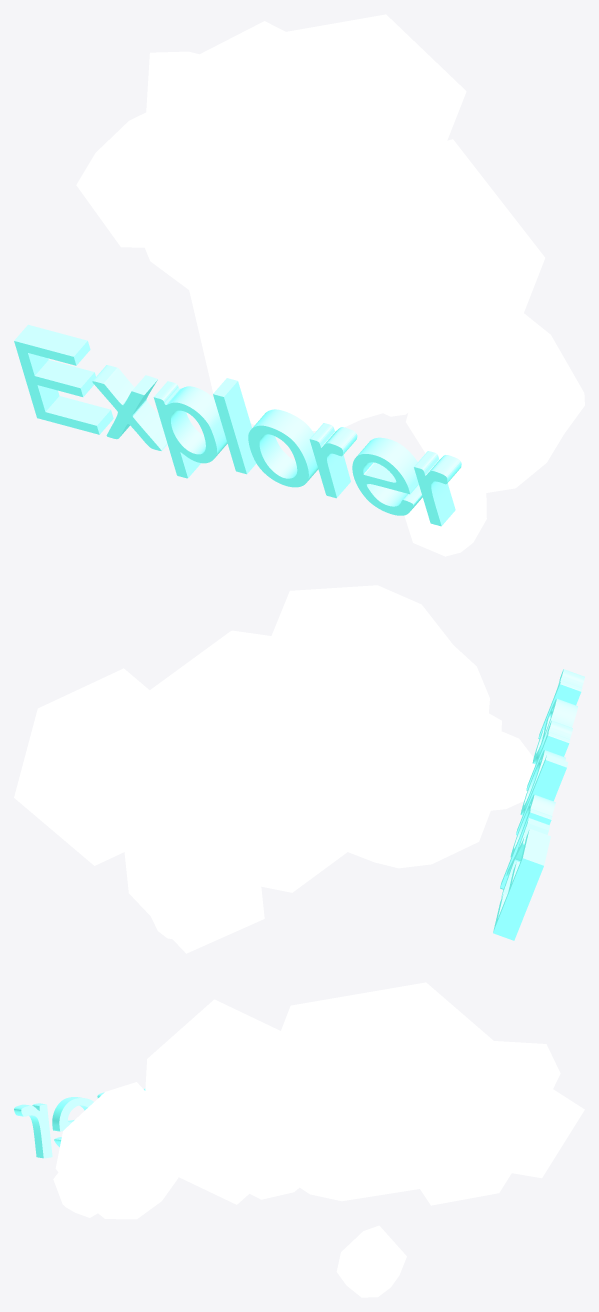
File: cloud0.glb
3 views of the same model, one above another, from view 1: azimuth 30°, elevation 25°; view 2: azimuth 150°, elevation 25°; view 3: azimuth 270°, elevation 25° (orthographic). The views are drawn at different scales.
Parts seen in each view (by area): view 1: Объект_Платоново_тело1_2, Объект_Платоново_тело_8, 3d-drawingglb, Объект_Платоново_тело1_1, Объект_Платоново_тело_2, Объект_Платоново_тело_7, Объект_Платоново_тело_5, Объект_Платоново_тело_1, Объект_Платоново_тело_6; view 2: Объект_Платоново_тело1_2, Объект_Платоново_тело1_1, Объект_Платоново_тело_7, Объект_Платоново_тело_8, Объект_Платоново_тело_5, 3d-drawingglb, Объект_Платоново_тело_6, Объект_Платоново_тело_3, Объект_Платоново_тело_1, Объект_Платоново_тело_2; view 3: Объект_Платоново_тело1_2, Объект_Платоново_тело_8, Объект_Платоново_тело_7, Объект_Платоново_тело_2, Объект_Платоново_тело_4, Объект_Платоново_тело_6, Объект_Платоново_тело_5, Объект_Платоново_тело1_1, 3d-drawingglb, Объект_Платоново_тело_1.
Part boxes in pixels (x1,y1,x2,y2): Объект_Платоново_тело1_2: (125,21,442,289); Объект_Платоново_тело_8: (263,139,544,420); 3d-drawingglb: (14,324,461,526); Объект_Платоново_тело1_1: (183,202,442,431); Объект_Платоново_тело_2: (406,283,584,492); Объект_Платоново_тело_7: (246,14,466,200); Объект_Платоново_тело_5: (76,112,254,247); Объект_Платоново_тело_1: (404,471,486,556); Объект_Платоново_тело_6: (146,51,245,165); Объект_Платоново_тело1_2: (116,630,415,892); Объект_Платоново_тело1_1: (273,665,501,868); Объект_Платоново_тело_7: (14,668,204,865); Объект_Платоново_тело_8: (239,585,477,807); Объект_Платоново_тело_5: (122,796,264,953); 3d-drawingglb: (493,669,584,940); Объект_Платоново_тело_6: (119,744,237,868); Объект_Платоново_тело_3: (155,819,245,899); Объект_Платоново_тело_1: (491,731,535,810); Объект_Платоново_тело_2: (454,646,489,712); Объект_Платоново_тело1_2: (243,982,514,1201); Объект_Платоново_тело_8: (141,999,309,1204); Объект_Платоново_тело_7: (384,1059,539,1205); Объект_Платоново_тело_2: (55,1082,191,1219); Объект_Платоново_тело_4: (336,1225,406,1297); Объект_Платоново_тело_6: (483,1041,560,1123); Объект_Платоново_тело_5: (502,1065,584,1178); Объект_Платоново_тело1_1: (188,1034,346,1199); 3d-drawingglb: (14,1088,145,1158); Объект_Платоново_тело_1: (53,1172,97,1217).
Size of the model in its own units: 3.4 by 2.5 by 4.69.
